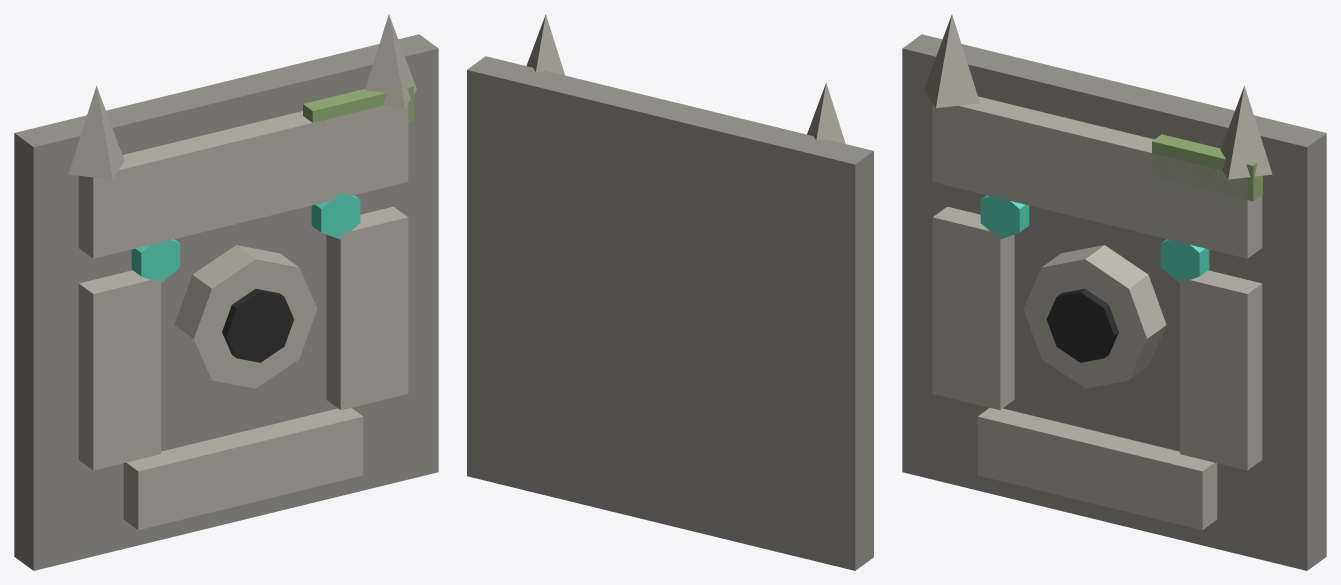
The model's file is DartEmitter.fbx.
3 views of the same model, side by side, from view 1: azimuth 30°, elevation 25°; view 2: azimuth 150°, elevation 25°; view 3: azimuth 330°, elevation 25° (orthographic). The views are drawn at different scales.
Parts seen in each view (by area): view 1: DartEmitter; view 2: DartEmitter; view 3: DartEmitter.
Part boxes in pixels (<box>): DartEmitter: <box>14,14,438,570</box>; DartEmitter: <box>467,14,873,570</box>; DartEmitter: <box>902,14,1326,570</box>.
Bounding box in the file's own units: 0.72 × 0.81 × 0.135.
